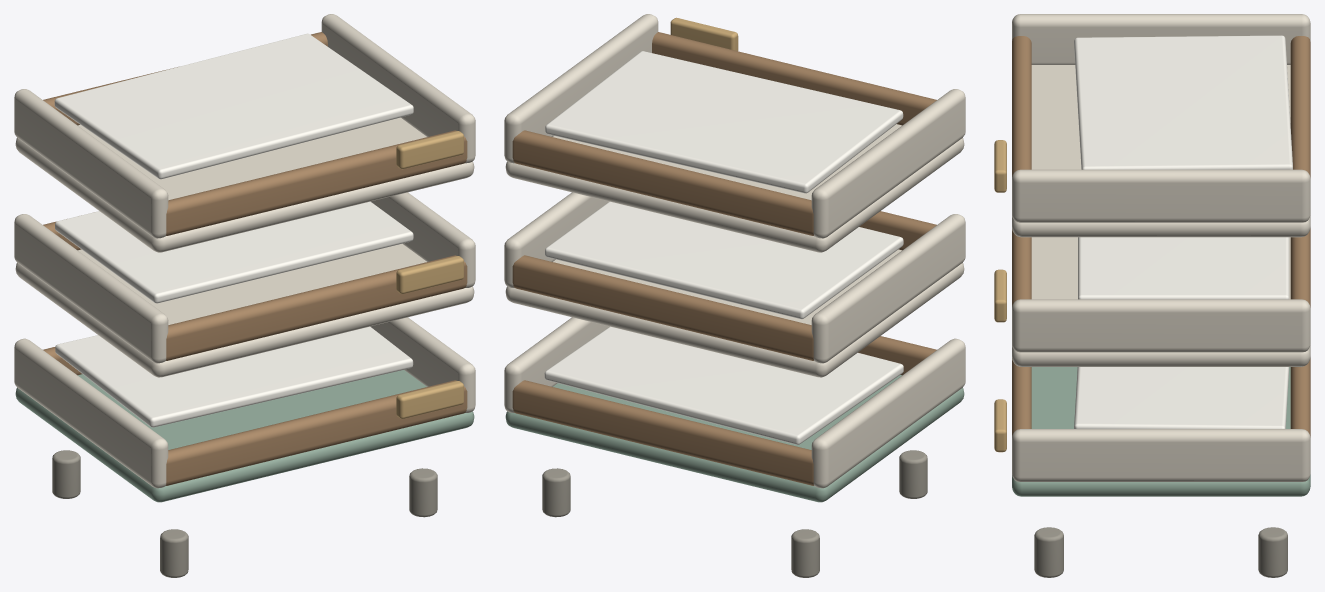
The model's file is paper_tray.glb.
3 renders of one model, left to right at view 1: azimuth 30°, elevation 25°; view 2: azimuth 150°, elevation 25°; view 3: azimuth 270°, elevation 25°, orthographic. The views are drawn at different scales.
Visible parts, largest first — view 1: Paper contents.002, Paper contents, Paper contents.001, Tray floor.002, Tray floor.001, Tray floor, Tray rim, Tray rim.002, Tray rim.004, Tray side rail, Tray side rail.004, Tray side rail.002 (+9 smaller); view 2: Paper contents.002, Paper contents.001, Paper contents, Tray rim.001, Tray rim.003, Tray rim.005, Tray side rail, Tray side rail.004, Tray side rail.002, Tray floor.002, Tray floor.001, Tray floor (+10 smaller); view 3: Paper contents.002, Tray side rail.005, Tray side rail.003, Tray side rail.001, Paper contents.001, Paper contents, Tray floor.002, Tray side rail.004, Tray floor.001, Tray floor, Tray rim.005, Tray rim.004 (+9 smaller).
Boxes of the visible parts, bbox=[...] form: Paper contents.002: bbox=[54, 33, 413, 179]; Paper contents: bbox=[55, 326, 413, 427]; Paper contents.001: bbox=[55, 201, 413, 303]; Tray floor.002: bbox=[15, 117, 474, 252]; Tray floor.001: bbox=[15, 243, 474, 377]; Tray floor: bbox=[15, 370, 474, 502]; Tray rim: bbox=[166, 380, 467, 485]; Tray rim.002: bbox=[166, 255, 467, 360]; Tray rim.004: bbox=[166, 130, 467, 235]; Tray side rail: bbox=[14, 338, 168, 488]; Tray side rail.004: bbox=[14, 89, 168, 238]; Tray side rail.002: bbox=[14, 214, 168, 363]; Paper contents.002: bbox=[545, 51, 903, 193]; Paper contents.001: bbox=[545, 201, 903, 319]; Paper contents: bbox=[544, 326, 903, 444]; Tray rim.001: bbox=[512, 380, 813, 485]; Tray rim.003: bbox=[512, 255, 813, 360]; Tray rim.005: bbox=[512, 130, 813, 235]; Tray side rail: bbox=[811, 338, 965, 488]; Tray side rail.004: bbox=[811, 89, 965, 238]; Tray side rail.002: bbox=[811, 214, 965, 363]; Tray floor.002: bbox=[505, 124, 964, 252]; Tray floor.001: bbox=[505, 249, 964, 377]; Tray floor: bbox=[505, 375, 964, 502]; Paper contents.002: bbox=[1074, 35, 1292, 169]; Tray side rail.005: bbox=[1012, 169, 1310, 222]; Tray side rail.003: bbox=[1012, 299, 1310, 352]; Tray side rail.001: bbox=[1012, 429, 1310, 481]; Paper contents.001: bbox=[1078, 237, 1289, 299]; Paper contents: bbox=[1074, 367, 1289, 428]; Tray floor.002: bbox=[1012, 65, 1310, 237]; Tray side rail.004: bbox=[1012, 14, 1310, 64]; Tray floor.001: bbox=[1012, 237, 1310, 366]; Tray floor: bbox=[1012, 367, 1310, 496]; Tray rim.005: bbox=[1290, 36, 1310, 177]; Tray rim.004: bbox=[1012, 36, 1031, 176].
Size of the model in its own units: 0.312 by 0.3695 by 0.254.
